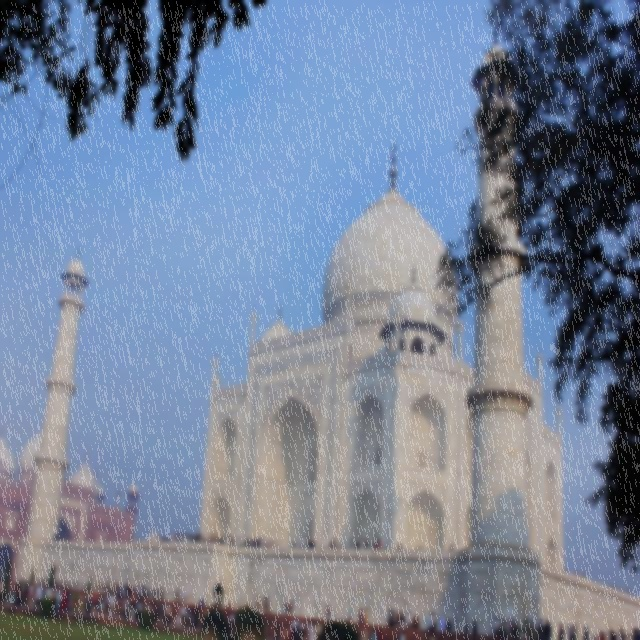pessoa: (13, 580, 33, 607), (45, 584, 57, 613), (34, 583, 44, 611), (12, 582, 22, 608), (58, 586, 78, 598), (21, 580, 30, 606), (0, 578, 8, 606), (96, 588, 104, 616), (108, 592, 116, 618), (55, 586, 62, 614), (52, 584, 59, 612), (193, 606, 201, 630), (174, 604, 182, 628), (158, 602, 166, 626), (136, 599, 144, 623), (122, 596, 130, 620), (77, 590, 85, 614), (70, 590, 78, 614), (536, 618, 545, 639), (291, 619, 300, 640), (98, 590, 105, 616), (289, 625, 302, 639), (544, 618, 552, 640), (122, 598, 130, 620), (190, 604, 197, 628), (85, 592, 92, 616), (496, 617, 504, 637), (492, 616, 500, 636), (176, 532, 192, 542), (181, 602, 187, 628), (91, 589, 97, 615), (86, 589, 92, 615), (140, 596, 146, 622), (192, 606, 199, 628), (130, 597, 136, 622), (66, 591, 73, 612), (512, 620, 520, 638), (438, 614, 446, 632), (299, 623, 308, 639), (230, 612, 236, 636), (184, 610, 192, 628), (166, 602, 172, 626), (162, 602, 168, 626), (62, 588, 68, 612), (213, 592, 221, 610), (250, 538, 264, 548), (110, 593, 116, 616), (134, 600, 140, 622), (124, 584, 135, 596), (557, 623, 565, 639), (529, 619, 535, 639), (310, 620, 316, 640), (387, 608, 393, 627), (376, 626, 384, 640), (203, 606, 208, 628), (406, 610, 412, 628), (308, 621, 314, 639), (262, 596, 268, 614), (264, 596, 270, 614), (567, 623, 573, 640), (120, 584, 126, 601), (509, 618, 514, 638), (392, 608, 397, 628), (445, 618, 452, 632), (288, 600, 294, 616), (38, 585, 42, 609), (432, 612, 437, 631), (152, 601, 156, 624), (582, 625, 588, 640), (572, 624, 578, 639), (428, 612, 433, 630), (396, 610, 401, 628), (397, 542, 402, 560), (158, 586, 164, 601), (113, 580, 118, 598), (0, 570, 6, 585), (116, 583, 121, 601), (609, 629, 617, 640), (106, 593, 110, 615), (20, 579, 24, 601), (392, 610, 397, 627), (361, 628, 368, 640), (472, 618, 477, 634), (363, 608, 368, 624), (358, 607, 363, 623), (348, 603, 352, 623), (175, 587, 180, 603), (316, 620, 322, 633), (136, 585, 142, 598), (376, 627, 382, 640), (619, 628, 626, 639), (370, 628, 377, 639), (226, 612, 230, 631), (414, 614, 419, 629), (609, 631, 617, 640), (504, 620, 508, 638), (464, 622, 470, 634), (256, 594, 260, 612), (300, 536, 306, 548), (212, 595, 216, 613), (152, 588, 158, 600), (599, 630, 606, 640), (400, 611, 404, 628), (633, 628, 639, 639), (196, 534, 204, 542), (400, 630, 406, 640), (364, 538, 369, 550), (348, 538, 354, 548), (310, 538, 316, 548), (256, 538, 262, 548), (251, 536, 256, 548), (236, 536, 241, 548), (135, 583, 139, 598), (321, 620, 327, 630), (308, 618, 312, 632), (148, 586, 152, 600), (329, 538, 334, 549), (396, 631, 402, 640), (213, 534, 218, 544), (105, 580, 110, 590), (96, 578, 101, 588), (440, 633, 447, 640), (352, 624, 358, 632), (326, 605, 330, 617), (360, 538, 366, 546), (260, 536, 264, 548), (229, 535, 233, 547), (218, 536, 224, 544), (154, 601, 156, 624), (449, 634, 458, 639), (334, 538, 338, 549), (168, 531, 172, 542), (218, 594, 222, 605), (592, 633, 598, 640), (227, 612, 232, 620), (186, 606, 190, 616), (149, 602, 153, 612), (356, 539, 360, 549), (270, 538, 274, 548), (245, 537, 249, 547), (238, 537, 242, 547), (233, 537, 237, 547), (210, 533, 214, 543), (144, 586, 148, 596), (614, 586, 617, 598), (225, 537, 229, 546), (197, 530, 200, 542), (208, 534, 212, 543), (216, 536, 219, 547), (377, 538, 381, 546), (308, 540, 312, 548), (288, 540, 292, 548), (274, 540, 278, 548), (266, 540, 270, 548), (172, 534, 176, 542), (200, 598, 204, 606), (431, 634, 436, 640), (206, 606, 209, 616), (143, 605, 149, 610), (624, 588, 629, 594), (449, 544, 454, 550), (227, 536, 230, 546), (54, 534, 58, 541), (292, 542, 296, 549), (145, 592, 149, 599), (412, 616, 414, 629), (572, 625, 576, 631), (628, 590, 632, 596), (220, 537, 223, 545), (195, 534, 198, 542), (128, 538, 132, 544), (562, 568, 568, 572), (147, 538, 151, 544), (36, 604, 40, 610), (418, 620, 420, 630), (583, 573, 586, 579), (165, 536, 168, 542), (161, 536, 164, 542), (156, 536, 159, 542), (136, 536, 139, 542), (58, 536, 61, 542), (373, 546, 377, 550), (276, 544, 280, 548), (575, 571, 578, 576), (242, 542, 245, 547), (167, 536, 170, 541), (611, 585, 614, 589), (192, 536, 194, 542), (580, 574, 583, 578), (224, 539, 226, 545), (139, 584, 142, 588), (142, 584, 144, 589), (619, 588, 621, 592), (193, 534, 195, 538), (158, 536, 160, 540), (608, 585, 610, 588), (171, 532, 174, 534)
